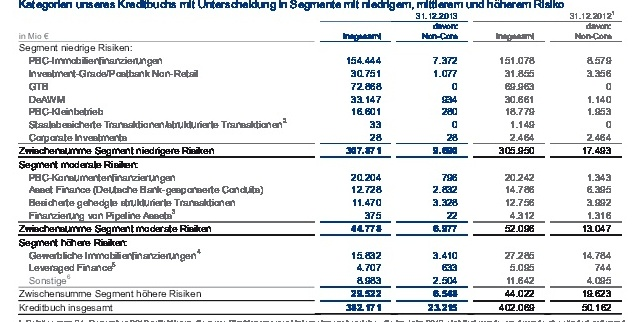table: (0, 0, 637, 322)
